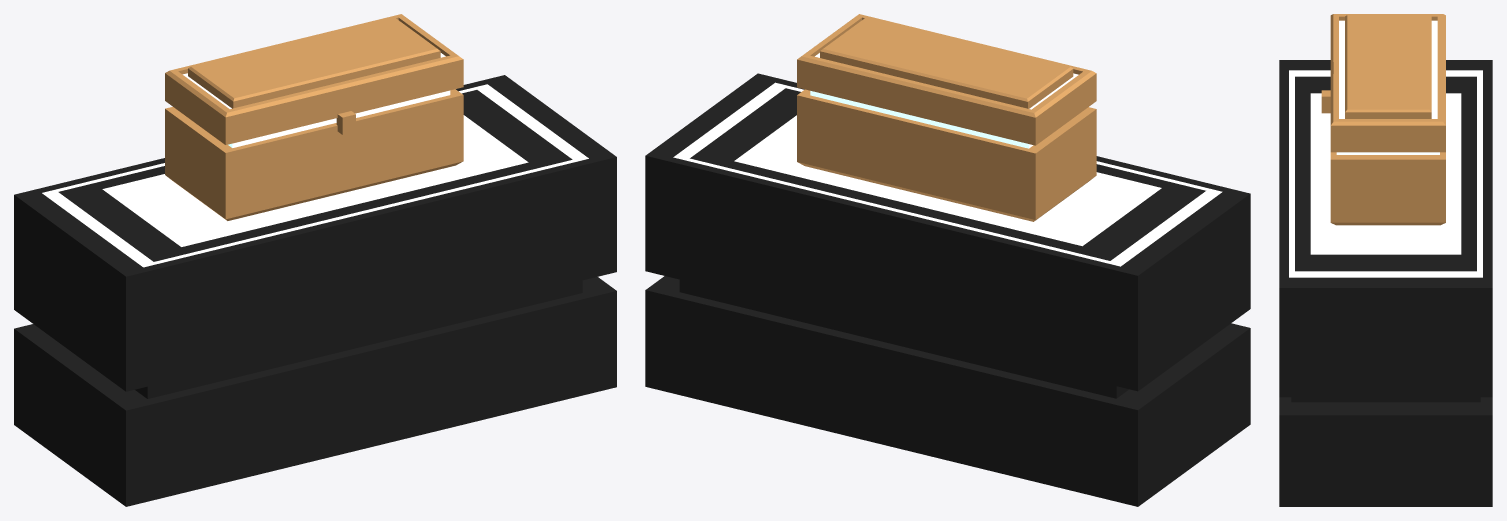
The picture shows the model from 3 angles, left to right: view 1: azimuth 30°, elevation 25°; view 2: azimuth 150°, elevation 25°; view 3: azimuth 270°, elevation 25°; orthographic projection. The views are drawn at different scales.
Parts seen in each view (by area): view 1: Treasue_table, TreasureBox; view 2: Treasue_table, TreasureBox; view 3: Treasue_table, TreasureBox.
Boxes of the visible parts, left/top/right/bottom form: Treasue_table: left=14, top=75, right=616, bottom=506; TreasureBox: left=165, top=14, right=463, bottom=220; Treasue_table: left=645, top=73, right=1250, bottom=506; TreasureBox: left=797, top=14, right=1096, bottom=221; Treasue_table: left=1279, top=60, right=1492, bottom=506; TreasureBox: left=1321, top=14, right=1445, bottom=225.
Bounding box in the file's own units: 1864 × 1261 × 737.
